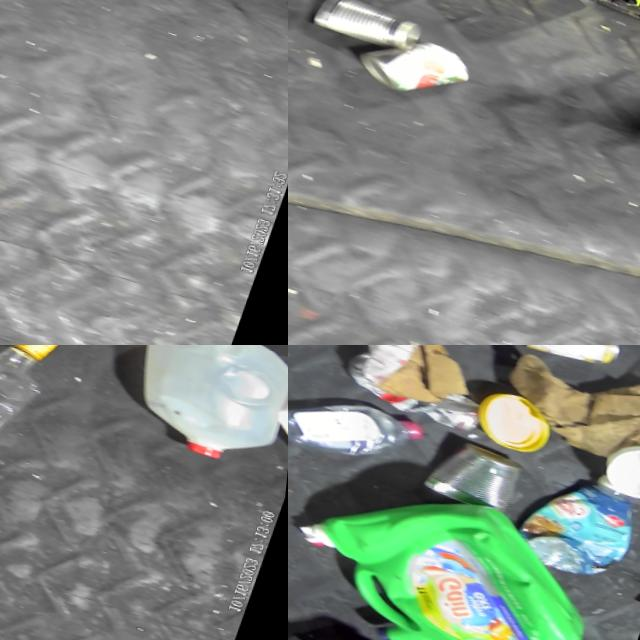can: (352, 13, 487, 112), (426, 425, 538, 511), (313, 0, 432, 55), (506, 345, 640, 366)
milk_jug: (123, 345, 288, 463)
non_white_jug: (288, 446, 627, 640), (511, 445, 640, 583)
plastic_bottle: (288, 370, 436, 469)
